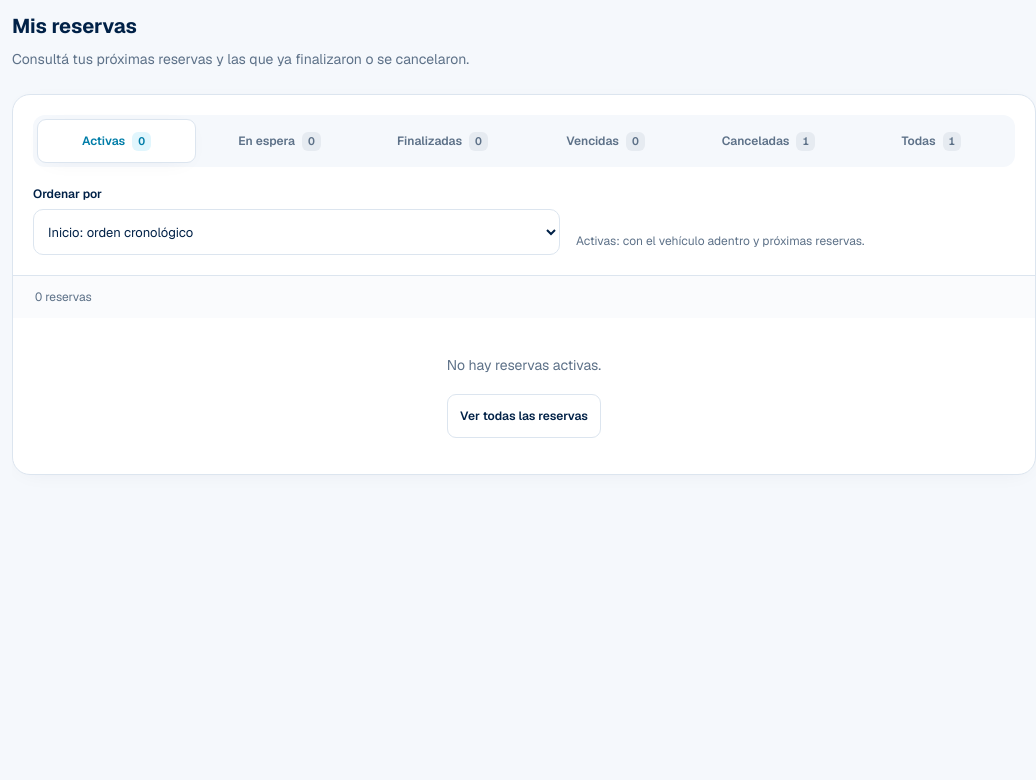
Test: ReservasListado en modo usuario › conserva el mensaje de cancelación ADMINISTRACION al filtrar
This screenshot has width=1036, height=780.
Check: the text "No hay reservas activas." is shown, box x1=447 y1=354 x2=601 y2=378
Click the button "Canceladas 1". click: click(768, 141)
box: x1=689 y1=119 x2=848 y2=163
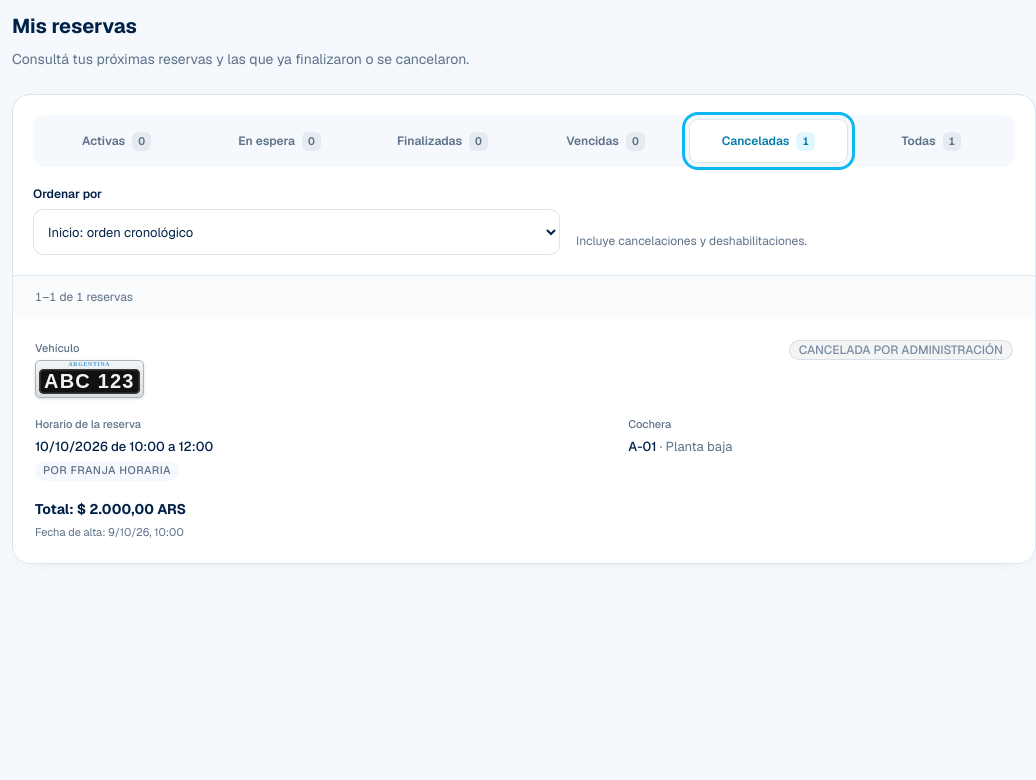
Check: the text "CANCELADA POR ADMINISTRACIÓN" is shown, box x1=789 y1=340 x2=1013 y2=360
